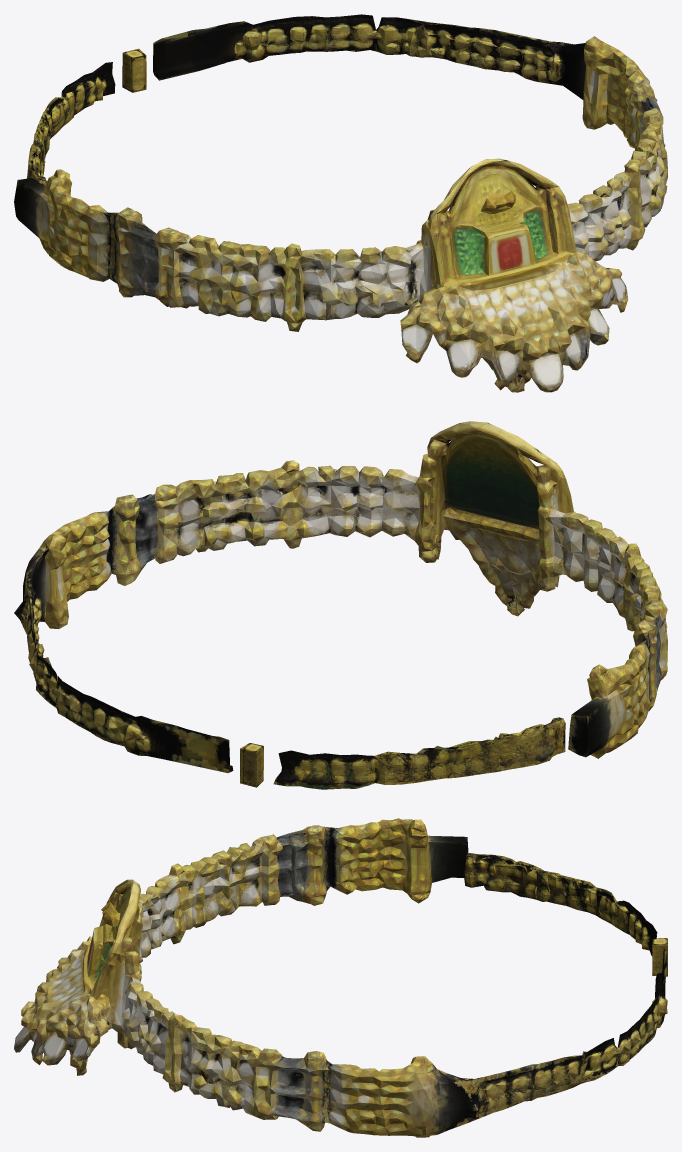
The model's file is necklace.obj.
The picture shows the model from 3 angles, top to bottom: view 1: azimuth 30°, elevation 25°; view 2: azimuth 150°, elevation 25°; view 3: azimuth 270°, elevation 25°; orthographic projection. The views are drawn at different scales.
Parts seen in each view (by area): view 1: geometry_0; view 2: geometry_0; view 3: geometry_0.
Boxes of the visible parts, x1,y1,x2,y2 form: geometry_0: [14, 14, 667, 392]; geometry_0: [14, 421, 667, 789]; geometry_0: [14, 818, 667, 1137].
Size of the model in its own units: 9.22 by 3.22 by 9.98.
Materials: 1 (1 with a texture image).
